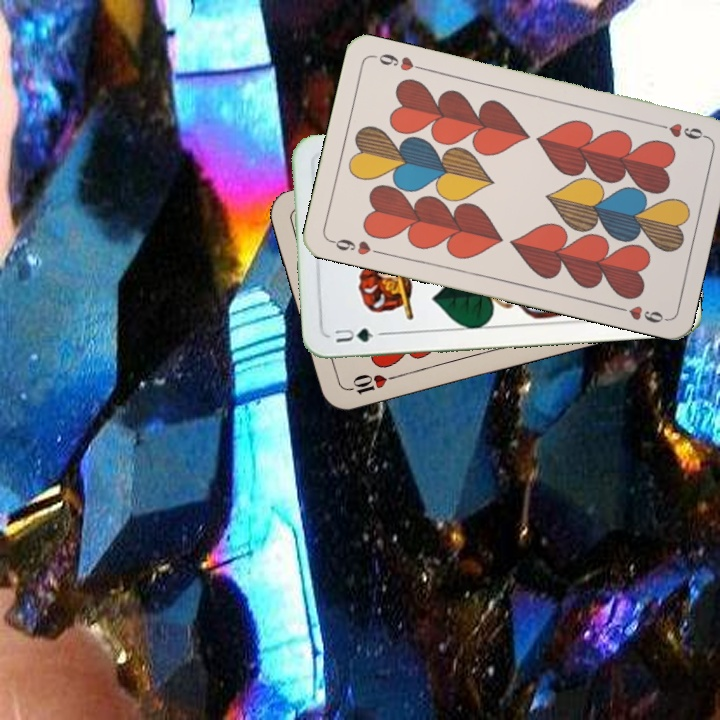GU: (330, 323, 386, 346)
H10: (342, 370, 400, 397)
H9: (326, 234, 385, 258), (651, 119, 710, 142)
